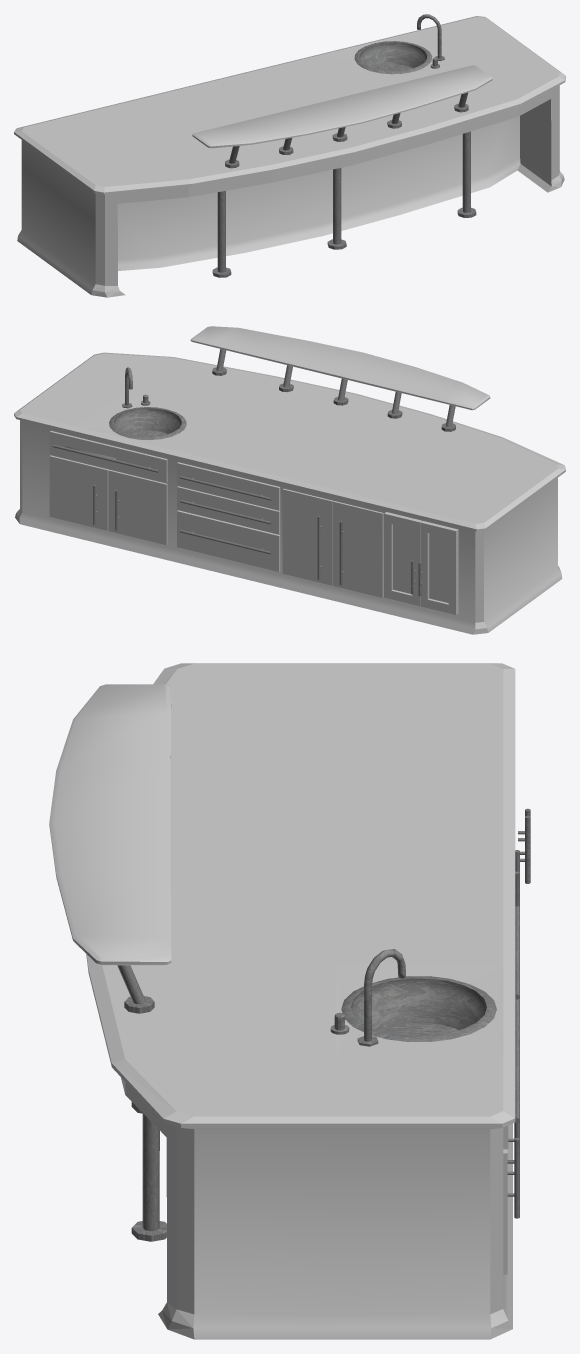
Rendered from SM_Kitchen_Island_01.FBX.
The picture shows the model from 3 angles, top to bottom: view 1: azimuth 30°, elevation 25°; view 2: azimuth 150°, elevation 25°; view 3: azimuth 270°, elevation 25°; orthographic projection. The views are drawn at different scales.
Parts seen in each view (by area): view 1: SM_Kitchen_Island_01; view 2: SM_Kitchen_Island_01; view 3: SM_Kitchen_Island_01.
Part boxes in pixels (bbox=[...]): SM_Kitchen_Island_01: bbox=[14, 14, 565, 297]; SM_Kitchen_Island_01: bbox=[14, 326, 565, 634]; SM_Kitchen_Island_01: bbox=[49, 663, 530, 1339].
Size of the model in its own units: 4.24 by 1.3 by 1.86.
